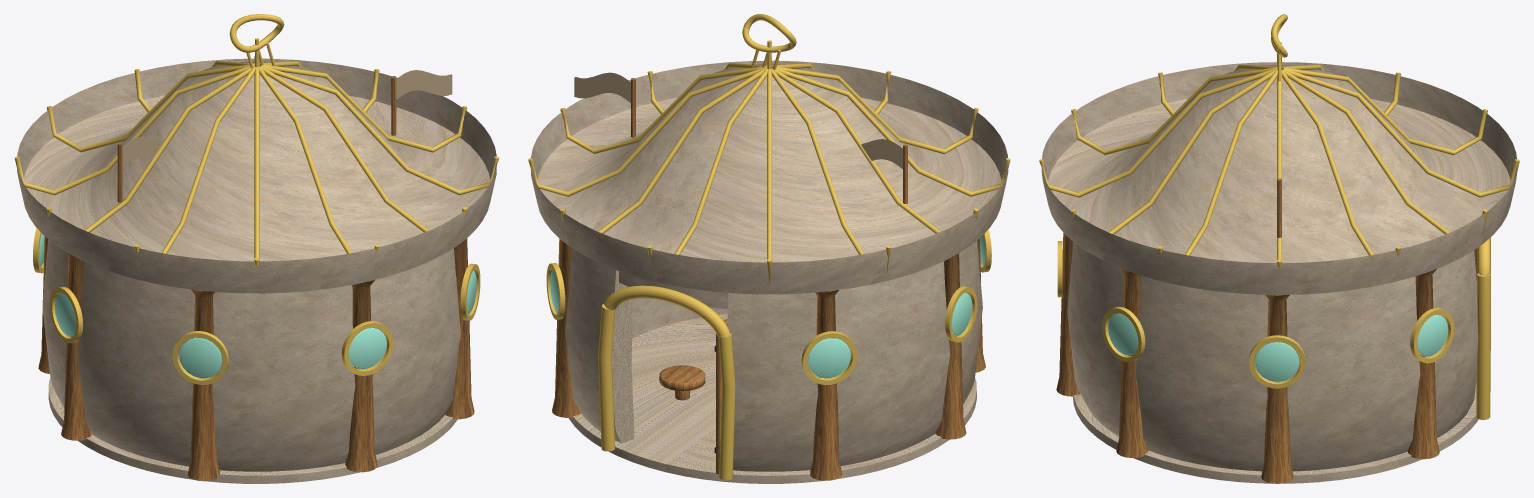
The model's file is 01_Casa_Redonda.obj.
3 views of the same model, side by side, from view 1: azimuth 30°, elevation 25°; view 2: azimuth 150°, elevation 25°; view 3: azimuth 270°, elevation 25° (orthographic).
Visible parts, largest first — view 1: Cubierta_desmontable, Cuerpo_abombado_con_interior, Pilares_y_oculos, Suelo, Arquitectura_del_bioma, Remate_elemental; view 2: Cubierta_desmontable, Cuerpo_abombado_con_interior, Suelo, Pilares_y_oculos, Entrada_arqueada, Arquitectura_del_bioma, Remate_elemental, Mobiliario_interior, Dintel_curvo, Puerta_Pivote_Y; view 3: Cubierta_desmontable, Cuerpo_abombado_con_interior, Pilares_y_oculos, Suelo, Entrada_arqueada, Remate_elemental.
Part boxes in pixels (x1,y1,x2,y2): Cubierta_desmontable: (14,56,499,293); Cuerpo_abombado_con_interior: (42,239,469,471); Pilares_y_oculos: (33,228,480,481); Suelo: (48,377,457,483); Arquitectura_del_bioma: (117,70,452,202); Remate_elemental: (229,14,284,67); Cubierta_desmontable: (528,58,1010,294); Cuerpo_abombado_con_interior: (565,241,982,471); Suelo: (568,314,976,483); Pilares_y_oculos: (546,229,991,480); Entrada_arqueada: (598,285,735,480); Arquitectura_del_bioma: (574,72,907,203); Remate_elemental: (742,14,796,69); Mobiliario_interior: (659,365,705,400); Dintel_curvo: (619,271,728,309); Puerta_Pivote_Y: (714,319,733,474); Cubierta_desmontable: (1039,62,1519,294); Cuerpo_abombado_con_interior: (1067,242,1478,471); Pilares_y_oculos: (1056,233,1454,483); Suelo: (1073,383,1478,483); Entrada_arqueada: (1476,237,1490,419); Remate_elemental: (1271,14,1287,81).
Size of the model in its own units: 6.47 by 5.61 by 6.47.
